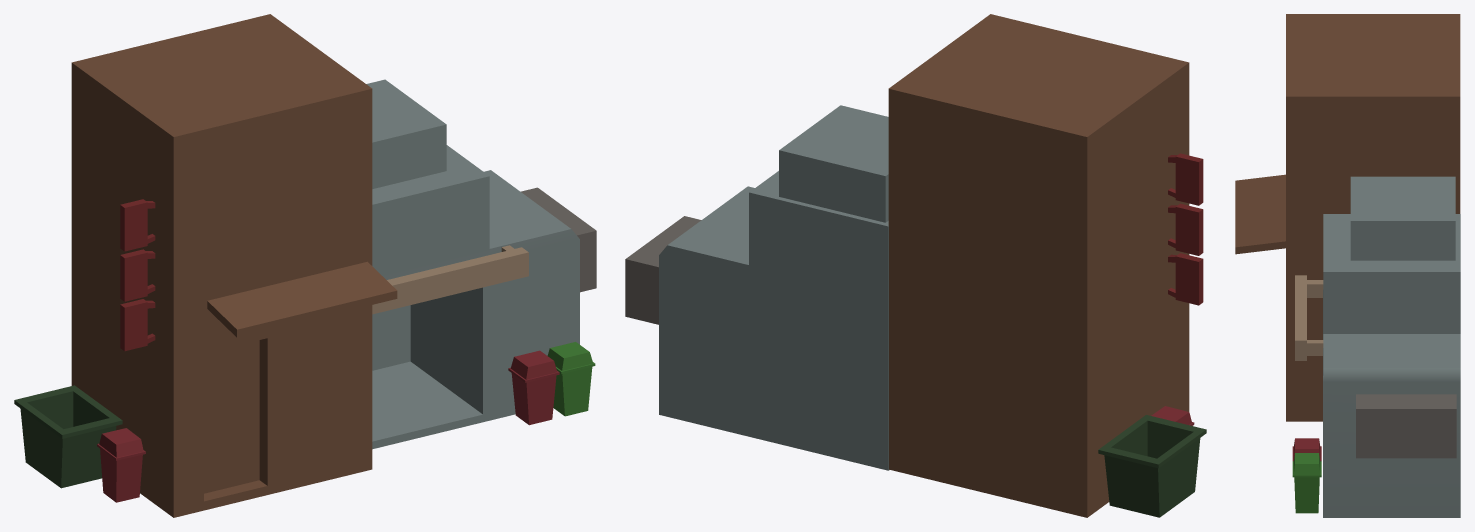
Rendered from foodstores.fbx.
3 views of the same model, side by side, from view 1: azimuth 30°, elevation 25°; view 2: azimuth 150°, elevation 25°; view 3: azimuth 270°, elevation 25° (orthographic). The views are drawn at different scales.
Visible parts, largest first — view 1: RedBuildingWHOLE, BlueBuildingWHOLE, RedBuildingGreenBin, BlueBuildingSign, BlueBuildingRedBin, RedBuildingSmallbin, BlueBuildingGreenBin, BlueBuildingFAN, RedBuildingSIGNBOTTOM, RedBuildingSIGNMIDDLE, RedBuildingSIGNTOP; view 2: RedBuildingWHOLE, BlueBuildingWHOLE, RedBuildingGreenBin, BlueBuildingFAN, RedBuildingSIGNBOTTOM, RedBuildingSIGNMIDDLE, RedBuildingSIGNTOP; view 3: RedBuildingWHOLE, BlueBuildingWHOLE, BlueBuildingFAN, BlueBuildingGreenBin, BlueBuildingSign, BlueBuildingRedBin.
Boxes of the visible parts, bbox=[...] form: RedBuildingWHOLE: bbox=[71, 14, 397, 517]; BlueBuildingWHOLE: bbox=[366, 79, 579, 449]; RedBuildingGreenBin: bbox=[14, 385, 122, 488]; BlueBuildingSign: bbox=[372, 245, 528, 314]; BlueBuildingRedBin: bbox=[508, 350, 559, 425]; RedBuildingSmallbin: bbox=[97, 428, 145, 502]; BlueBuildingGreenBin: bbox=[547, 342, 595, 416]; BlueBuildingFAN: bbox=[521, 187, 596, 292]; RedBuildingSIGNBOTTOM: bbox=[120, 299, 155, 351]; RedBuildingSIGNMIDDLE: bbox=[120, 249, 155, 301]; RedBuildingSIGNTOP: bbox=[120, 199, 155, 251]; RedBuildingWHOLE: bbox=[888, 14, 1189, 517]; BlueBuildingWHOLE: bbox=[659, 105, 889, 470]; RedBuildingGreenBin: bbox=[1098, 415, 1206, 517]; BlueBuildingFAN: bbox=[625, 216, 701, 324]; RedBuildingSIGNBOTTOM: bbox=[1168, 253, 1203, 305]; RedBuildingSIGNMIDDLE: bbox=[1168, 203, 1203, 255]; RedBuildingSIGNTOP: bbox=[1168, 153, 1203, 205]; RedBuildingWHOLE: bbox=[1235, 14, 1460, 421]; BlueBuildingWHOLE: bbox=[1323, 176, 1460, 517]; BlueBuildingFAN: bbox=[1356, 394, 1456, 458]; BlueBuildingGreenBin: bbox=[1292, 453, 1321, 513]; BlueBuildingSign: bbox=[1295, 275, 1323, 360]; BlueBuildingRedBin: bbox=[1292, 438, 1321, 461].
Bounding box in the file's own units: 36.78 × 25.4 × 15.94.
